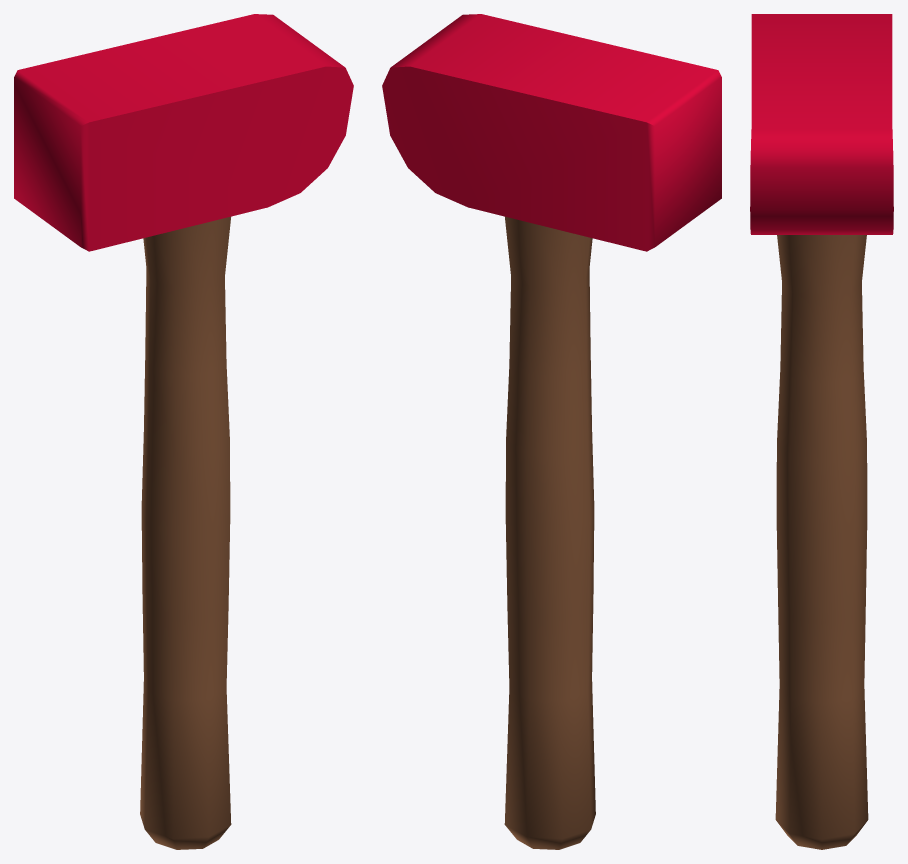
The model's file is Martelo.fbx.
3 views of the same model, side by side, from view 1: azimuth 30°, elevation 25°; view 2: azimuth 150°, elevation 25°; view 3: azimuth 270°, elevation 25° (orthographic).
Parts seen in each view (by area): view 1: Martelo_low; view 2: Martelo_low; view 3: Martelo_low.
Boxes of the visible parts, x1=… form: Martelo_low: x1=14, y1=14, x2=353, y2=849; Martelo_low: x1=382, y1=14, x2=721, y2=849; Martelo_low: x1=750, y1=14, x2=893, y2=849.
Bounding box in the file's own units: 9.78 × 26.74 × 4.59.
